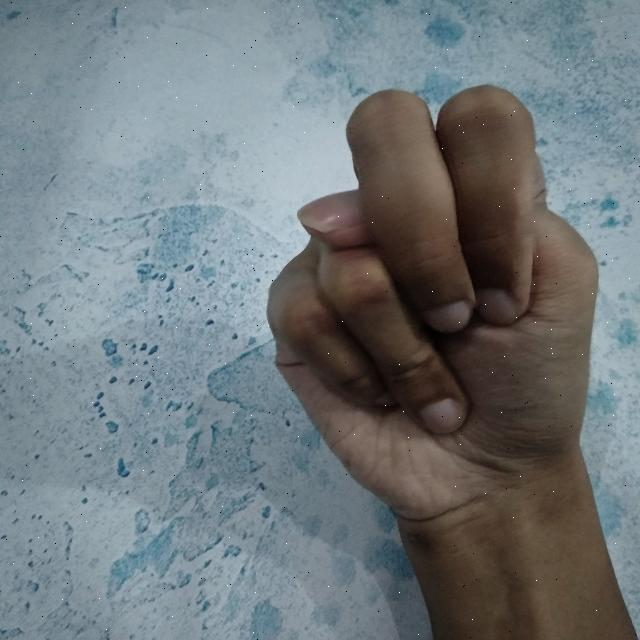N: (251, 72, 640, 640)
